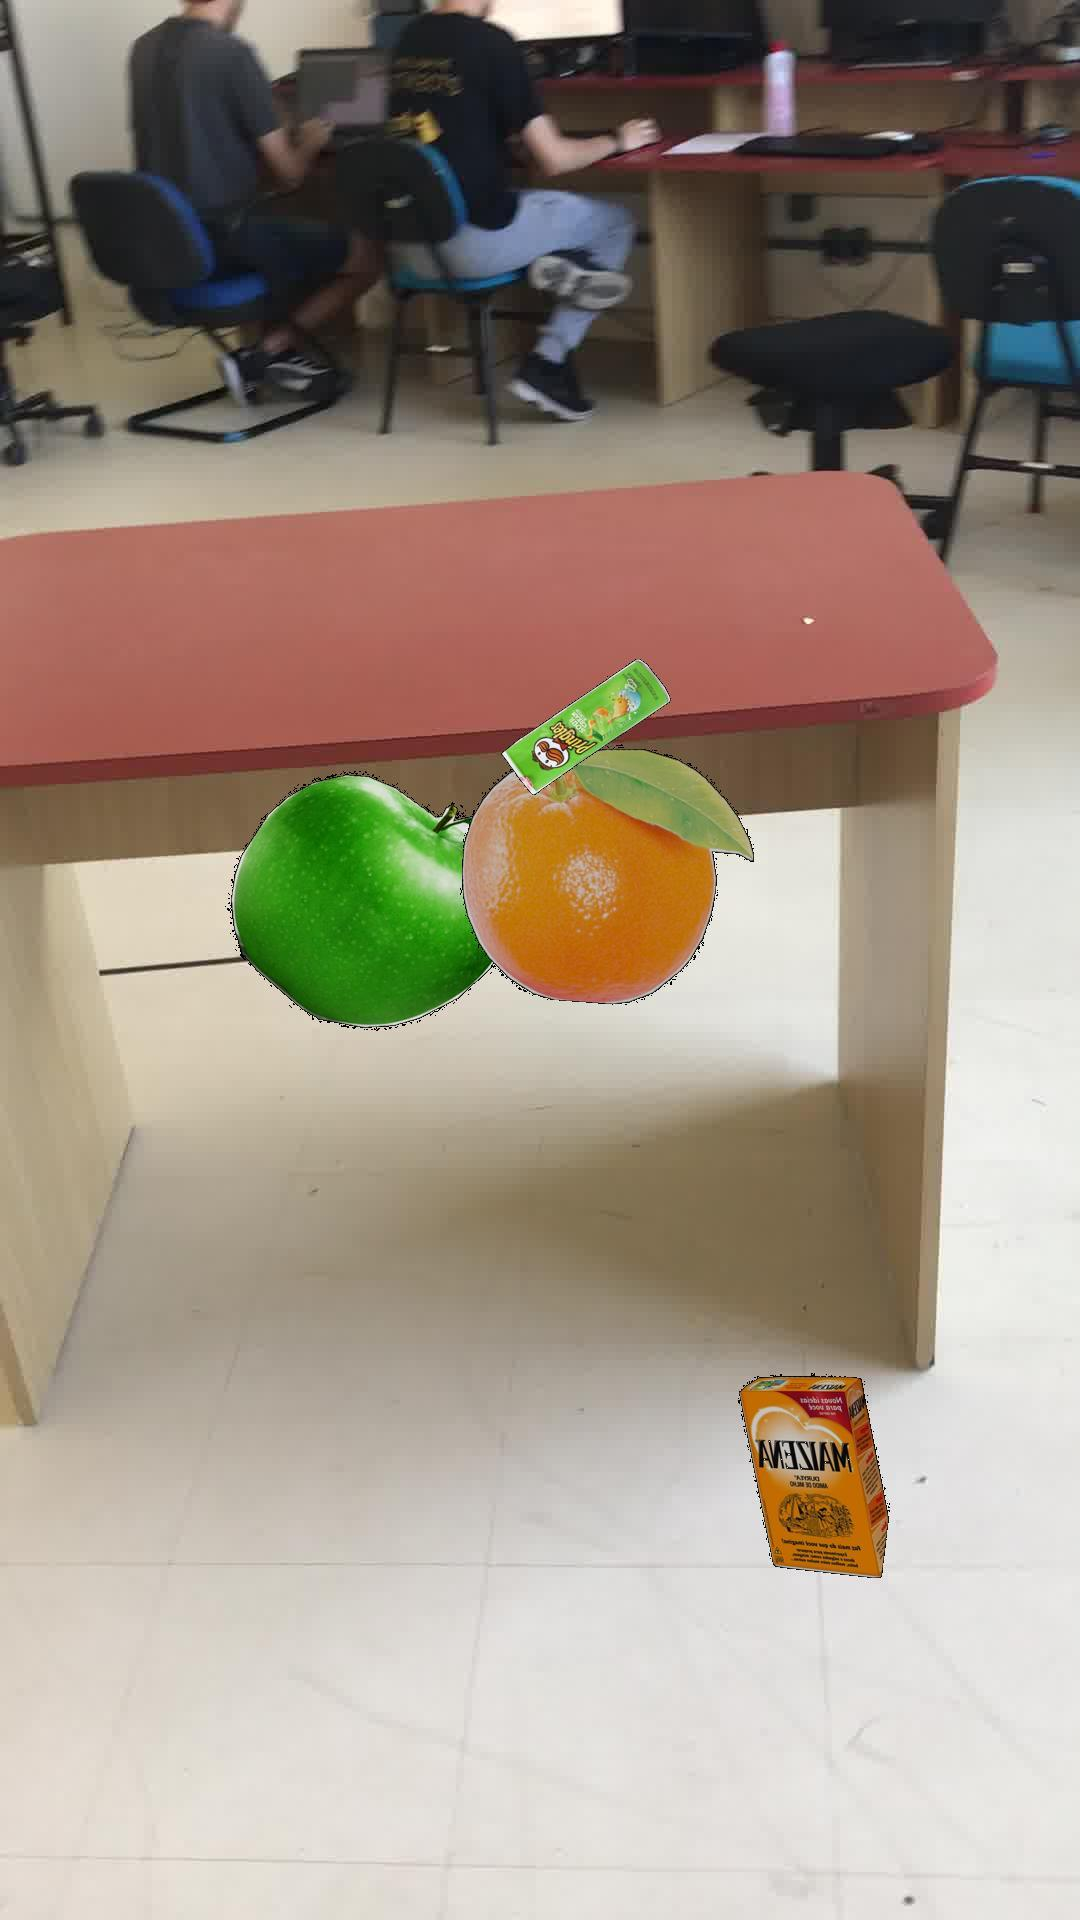green apple: (228, 771, 492, 1027)
orange: (460, 748, 753, 1004)
pringles: (500, 658, 670, 794)
